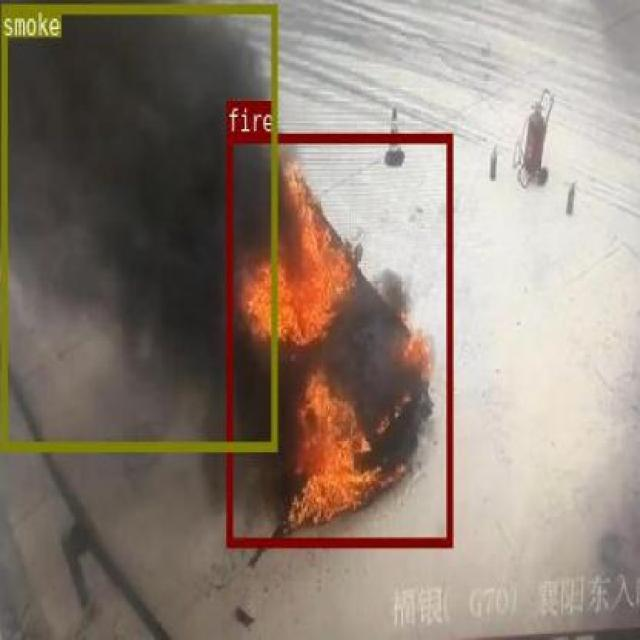Fire: (226, 132, 452, 546)
Smoke: (0, 2, 276, 450)
